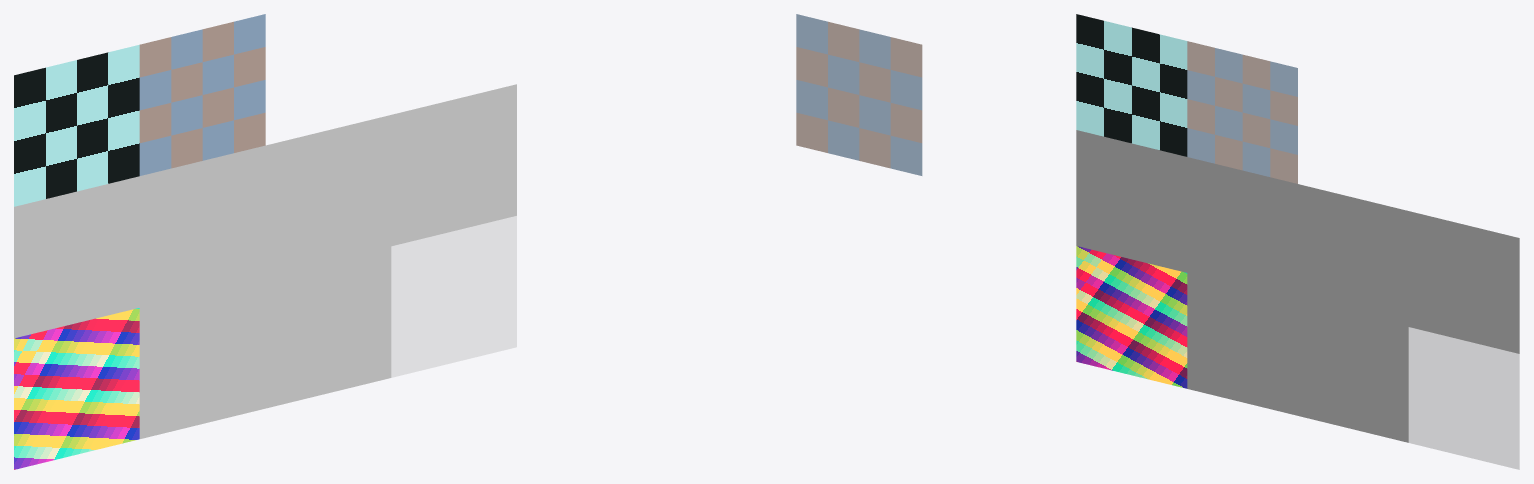
3 renders of one model, left to right at view 1: azimuth 30°, elevation 25°; view 2: azimuth 150°, elevation 25°; view 3: azimuth 330°, elevation 25°, orthographic. The views are drawn at different scales.
Parts seen in each view (by area): view 1: Sheen, Iridescence, Clearcoat, Anisotropy, Wire, PBR, Specular, Defaults, UnlitTextured, Glass; view 2: Wire; view 3: UnlitTextured, PBR, Specular, Defaults, Sheen, Iridescence, Anisotropy, Clearcoat, Wire, Glass.
Boxes of the visible parts, x1=… form: Sheen: x1=265, y1=246, x2=391, y2=408; Iridescence: x1=139, y1=145, x2=265, y2=307; Clearcoat: x1=139, y1=277, x2=265, y2=438; Anisotropy: x1=265, y1=115, x2=391, y2=276; Wire: x1=139, y1=14, x2=265, y2=175; PBR: x1=14, y1=308, x2=139, y2=469; Specular: x1=14, y1=176, x2=139, y2=338; Defaults: x1=391, y1=84, x2=516, y2=246; UnlitTextured: x1=14, y1=44, x2=139, y2=206; Glass: x1=391, y1=216, x2=516, y2=377; Wire: x1=796, y1=14, x2=922, y2=175; UnlitTextured: x1=1076, y1=14, x2=1187, y2=156; PBR: x1=1076, y1=246, x2=1187, y2=388; Specular: x1=1076, y1=130, x2=1187, y2=272; Defaults: x1=1408, y1=211, x2=1519, y2=353; Sheen: x1=1298, y1=300, x2=1408, y2=442; Iridescence: x1=1187, y1=157, x2=1297, y2=299; Anisotropy: x1=1298, y1=184, x2=1408, y2=326; Clearcoat: x1=1187, y1=273, x2=1297, y2=415; Wire: x1=1187, y1=41, x2=1297, y2=183; Glass: x1=1409, y1=327, x2=1519, y2=469.
Size of the model in its own units: 4 by 3 by 0.
Materials: 10 (3 with a texture image).
